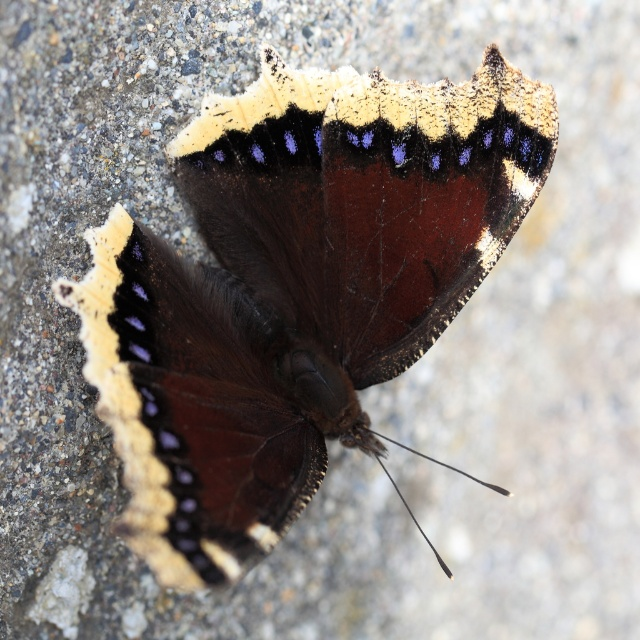Butterfly: (72, 16, 544, 640)
